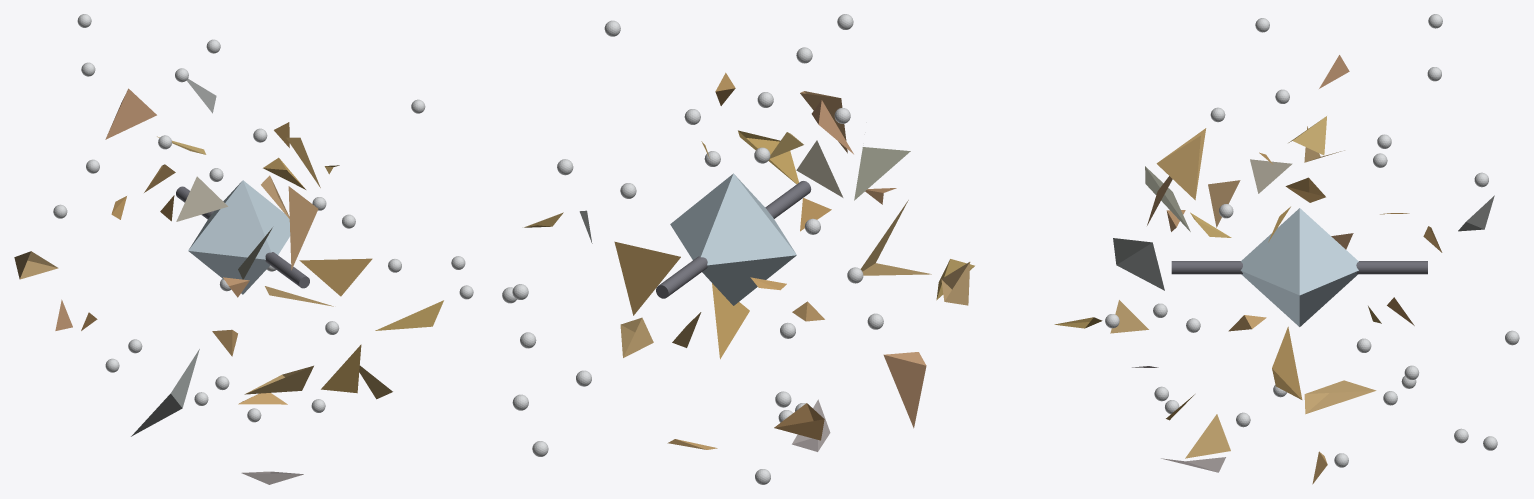
The model's file is chiron_cluster_copper75.glb.
The picture shows the model from 3 angles, left to right: view 1: azimuth 30°, elevation 25°; view 2: azimuth 150°, elevation 25°; view 3: azimuth 270°, elevation 25°; orthographic projection. The views are drawn at different scales.
Parts seen in each view (by area): view 1: CoreCrystal, Shard_07, Shard_03, Shard_23, Shard_27, Shard_21, Shard_17, Shard_16, IronSpine, Shard_14, Shard_18; view 2: CoreCrystal, Shard_07, Shard_01, IronSpine, Shard_10, Shard_17, Shard_24, Shard_21, Shard_14, Shard_16, Shard_18, Shard_05 (+3 smaller); view 3: CoreCrystal, IronSpine, Shard_26, Shard_23, Shard_05, Shard_07, Shard_28, Shard_21, Shard_08, Shard_00, Shard_10, Shard_16 (+2 smaller).
Boxes of the visible parts, left/top/right/bottom form: CoreCrystal: left=188, top=180, right=290, bottom=294; Shard_07: left=299, top=258, right=372, bottom=296; Shard_03: left=288, top=186, right=318, bottom=270; Shard_23: left=131, top=349, right=199, bottom=436; Shard_27: left=105, top=88, right=156, bottom=139; Shard_21: left=176, top=176, right=227, bottom=221; Shard_17: left=321, top=344, right=361, bottom=393; Shard_16: left=244, top=365, right=313, bottom=394; IronSpine: left=176, top=186, right=309, bottom=288; Shard_14: left=375, top=300, right=443, bottom=330; Shard_18: left=14, top=251, right=58, bottom=279; CoreCrystal: left=670, top=173, right=796, bottom=305; Shard_07: left=614, top=241, right=680, bottom=315; Shard_01: left=883, top=352, right=926, bottom=428; IronSpine: left=656, top=181, right=811, bottom=298; Shard_10: left=854, top=147, right=910, bottom=200; Shard_17: left=712, top=283, right=749, bottom=359; Shard_24: left=774, top=403, right=824, bottom=440; Shard_21: left=796, top=140, right=843, bottom=197; Shard_14: left=738, top=130, right=798, bottom=184; Shard_16: left=860, top=200, right=931, bottom=275; Shard_18: left=941, top=262, right=970, bottom=305; Shard_05: left=620, top=317, right=653, bottom=357; CoreCrystal: left=1240, top=208, right=1358, bottom=326; IronSpine: left=1171, top=261, right=1427, bottom=274; Shard_26: left=1156, top=128, right=1206, bottom=200; Shard_23: left=1113, top=238, right=1164, bottom=290; Shard_05: left=1304, top=380, right=1376, bottom=414; Shard_07: left=1272, top=326, right=1302, bottom=399; Shard_28: left=1185, top=414, right=1230, bottom=458; Shard_21: left=1250, top=159, right=1292, bottom=193; Shard_08: left=1288, top=116, right=1326, bottom=155; Shard_00: left=1208, top=180, right=1240, bottom=227; Shard_10: left=1145, top=166, right=1190, bottom=231; Shard_16: left=1110, top=300, right=1148, bottom=333.
Size of the model in its own units: 1.23 by 1.26 by 1.27.
